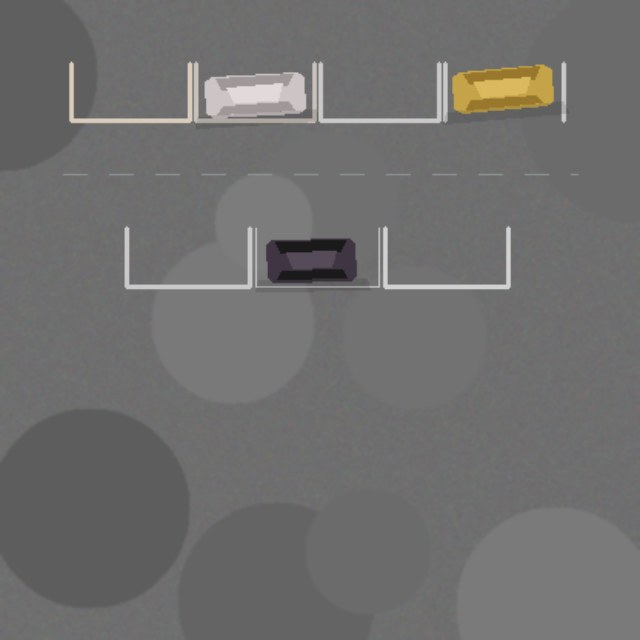space-empty: (126, 228, 249, 286), (385, 228, 508, 286), (71, 63, 189, 120), (320, 63, 438, 120)
space-occupied: (255, 228, 378, 286), (195, 63, 314, 120), (445, 63, 563, 120)
